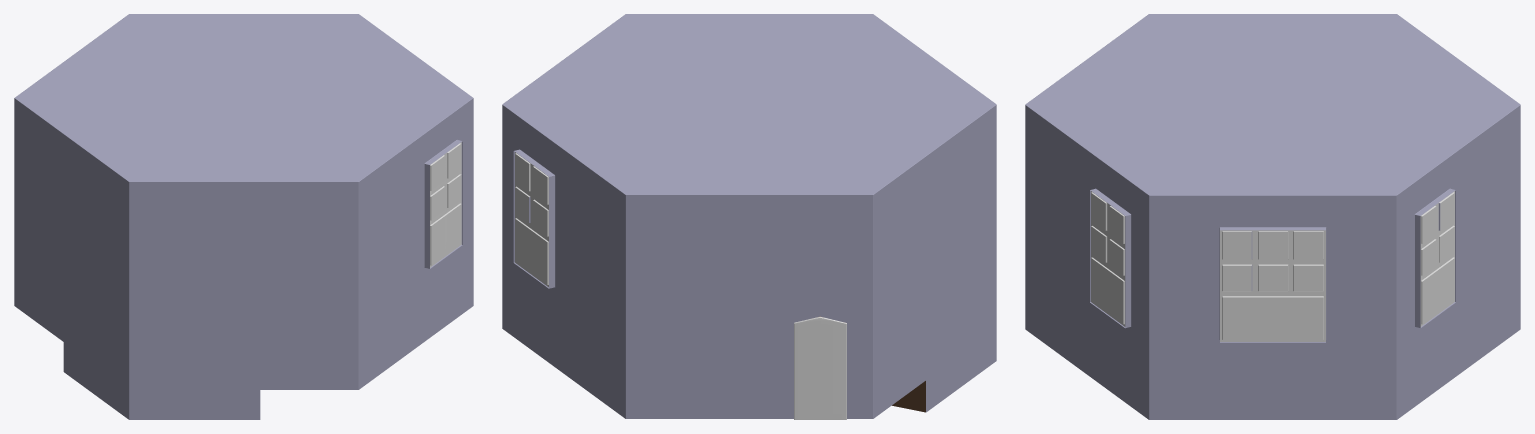
The model's file is Hexegon_room.fbx.
The picture shows the model from 3 angles, left to right: view 1: azimuth 30°, elevation 25°; view 2: azimuth 150°, elevation 25°; view 3: azimuth 270°, elevation 25°; orthographic projection. The views are drawn at different scales.
Visible parts, largest first — view 1: Room; view 2: Room, Door; view 3: Room.
Boxes of the visible parts, x1,y1,x2,y2 form: Room: (14, 14, 473, 419); Room: (502, 14, 996, 418); Door: (794, 317, 846, 419); Room: (1025, 14, 1520, 419).
Bounding box in the file's own units: 8453 × 5491 × 9595.
